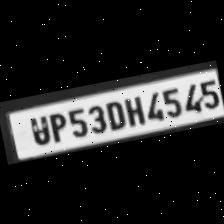3: (83, 99, 108, 135)
4: (140, 87, 165, 123), (178, 78, 203, 114)
5: (194, 75, 222, 112), (157, 84, 183, 120), (64, 104, 90, 138)
D: (102, 96, 128, 132)
H: (121, 92, 147, 126)
P: (44, 108, 69, 144)
U: (24, 110, 52, 146)
